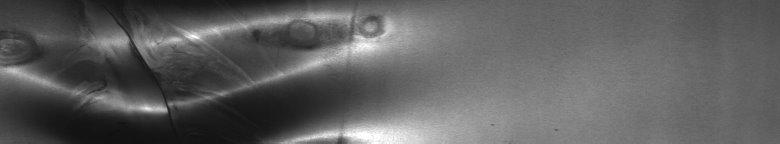ke: (4, 4, 384, 136)
